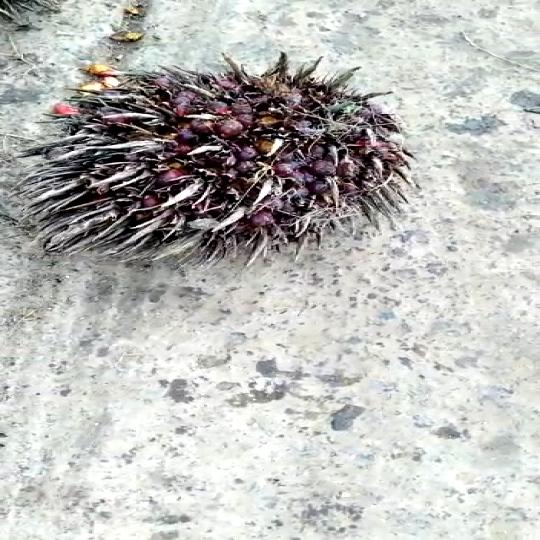terlalu masak: (13, 53, 416, 267)
